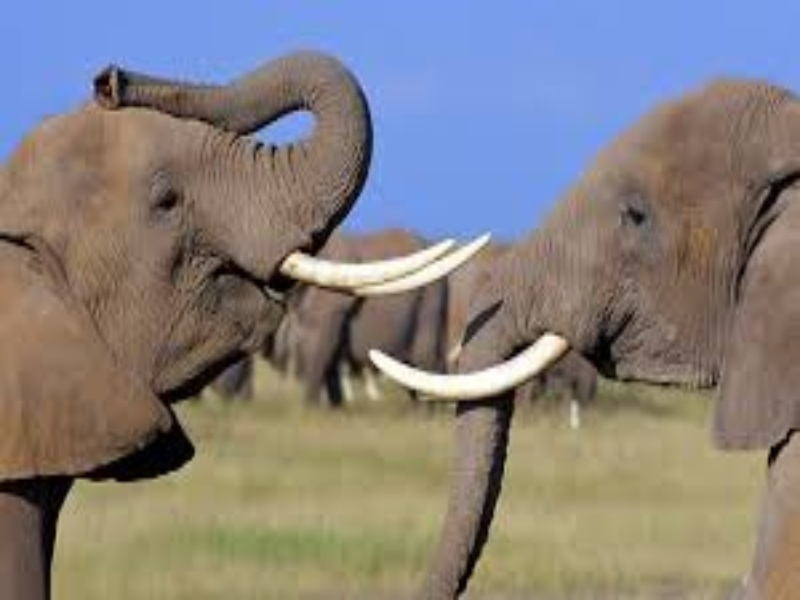elephant: (8, 50, 798, 589)
